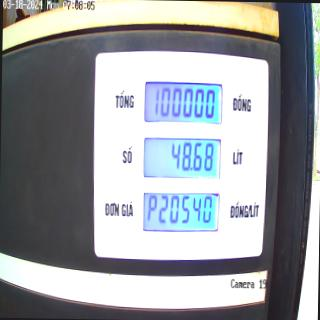screen: (140, 79, 224, 234)
